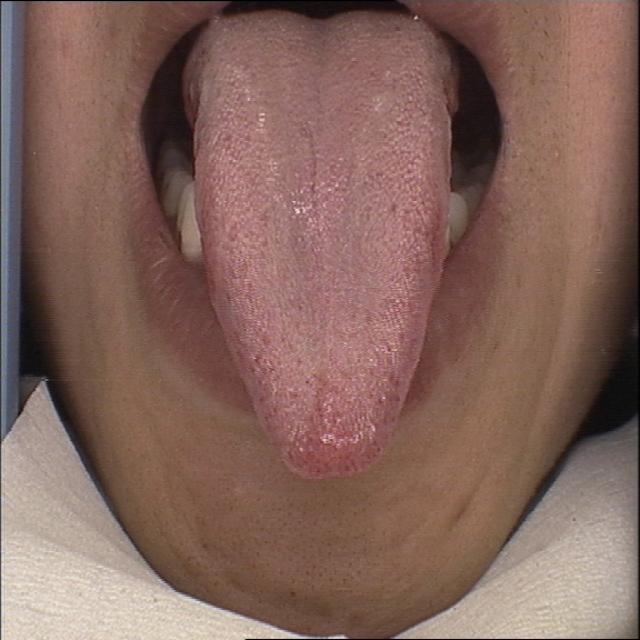tongue: (173, 1, 470, 484)
